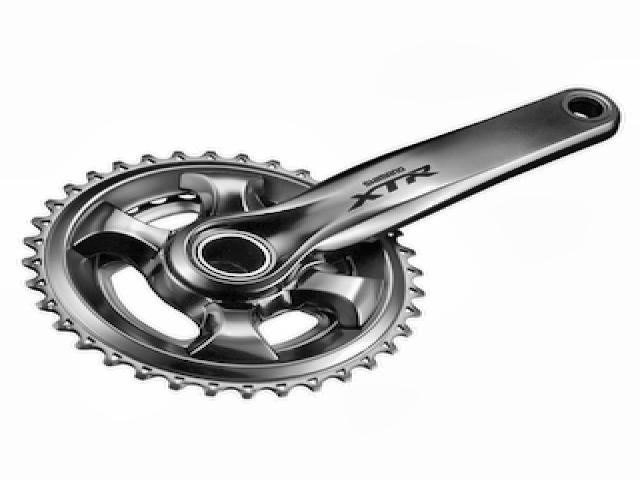cranks_set: (22, 84, 624, 400)
